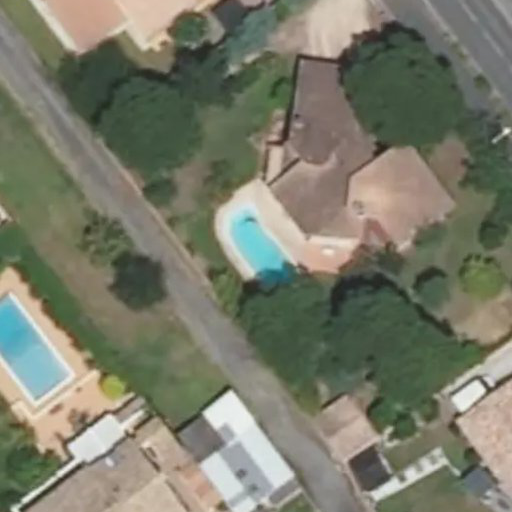pool: (218, 221, 288, 263)
